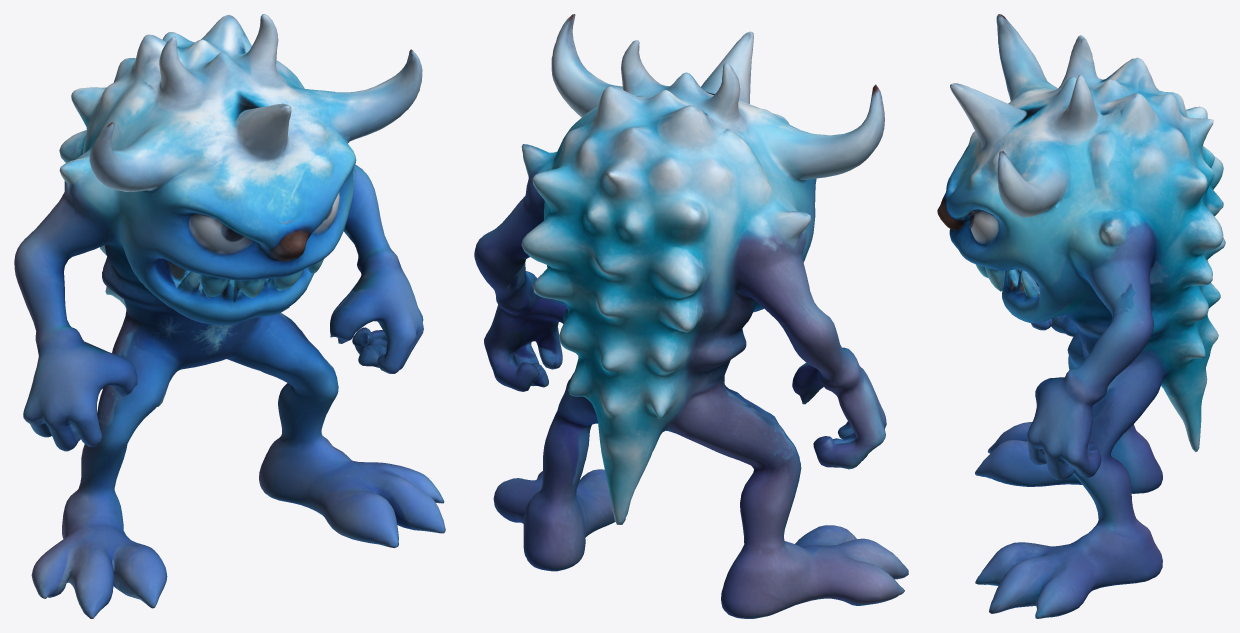
Rendered from Frostbite_Fudge_A_co_0910214342_refine.fbx.
3 renders of one model, left to right at view 1: azimuth 30°, elevation 25°; view 2: azimuth 150°, elevation 25°; view 3: azimuth 270°, elevation 25°, orthographic. The views are drawn at different scales.
Parts seen in each view (by area): view 1: Mesh_0; view 2: Mesh_0; view 3: Mesh_0.
Part boxes in pixels (bbox=[...]): Mesh_0: bbox=[14, 14, 445, 618]; Mesh_0: bbox=[474, 14, 908, 618]; Mesh_0: bbox=[937, 14, 1225, 618].
Size of the model in its own units: 163 by 200 by 109.
1 material, 1 textured.
